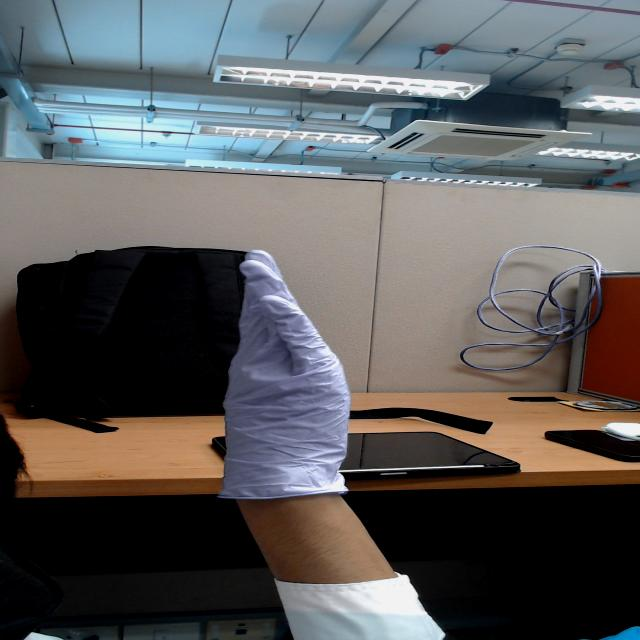glove: (200, 239, 361, 442)
